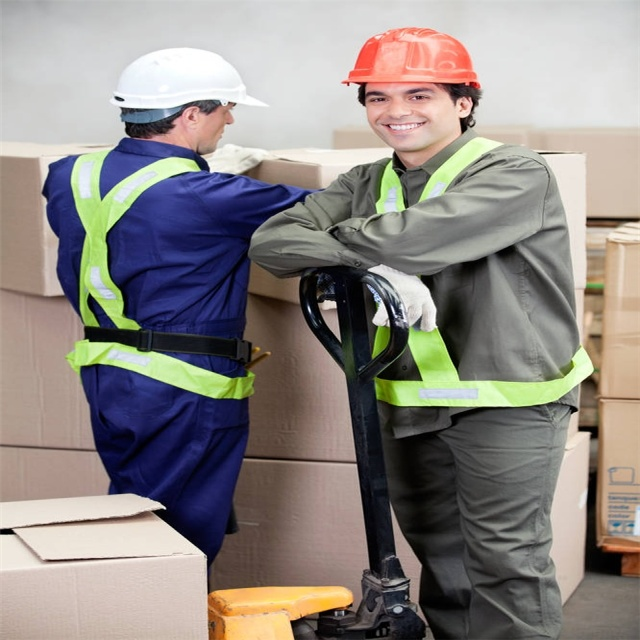Helmet: (336, 17, 496, 156), (96, 33, 276, 152)
Reflective vest: (349, 134, 597, 430), (59, 145, 262, 405)
